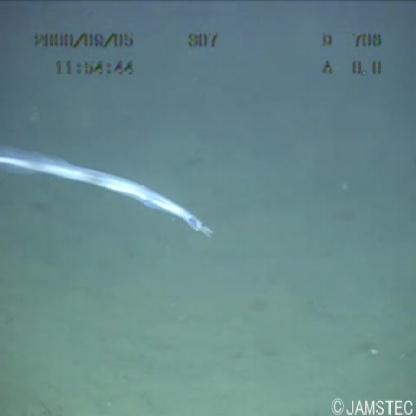Bio: (1, 146, 219, 246)
